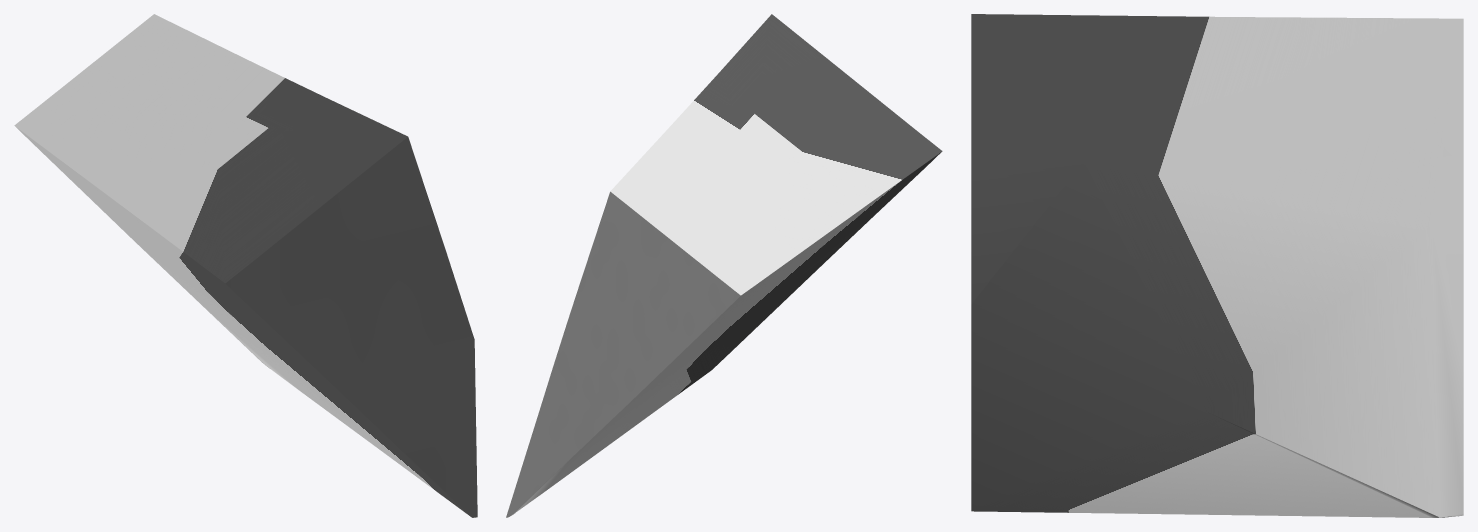
The model's file is Mirror_Eclat_18.fbx.
The picture shows the model from 3 angles, left to right: view 1: azimuth 30°, elevation 25°; view 2: azimuth 150°, elevation 25°; view 3: azimuth 270°, elevation 25°; orthographic projection. The views are drawn at different scales.
Visible parts, largest first — view 1: Mirror_Eclat_18; view 2: Mirror_Eclat_18; view 3: Mirror_Eclat_18.
Boxes of the visible parts, x1,y1,x2,y2 form: Mirror_Eclat_18: (14, 14, 477, 517); Mirror_Eclat_18: (506, 14, 942, 517); Mirror_Eclat_18: (971, 14, 1463, 517).
Size of the model in its own units: 0.0365 by 0.0546 by 0.0526.
1 material, 1 textured.
